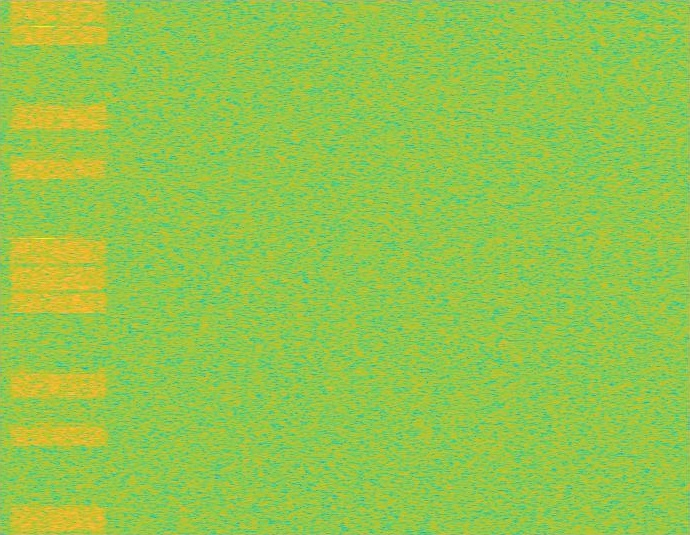LTE: (7, 0, 111, 534)
Radar: (37, 0, 51, 534)
